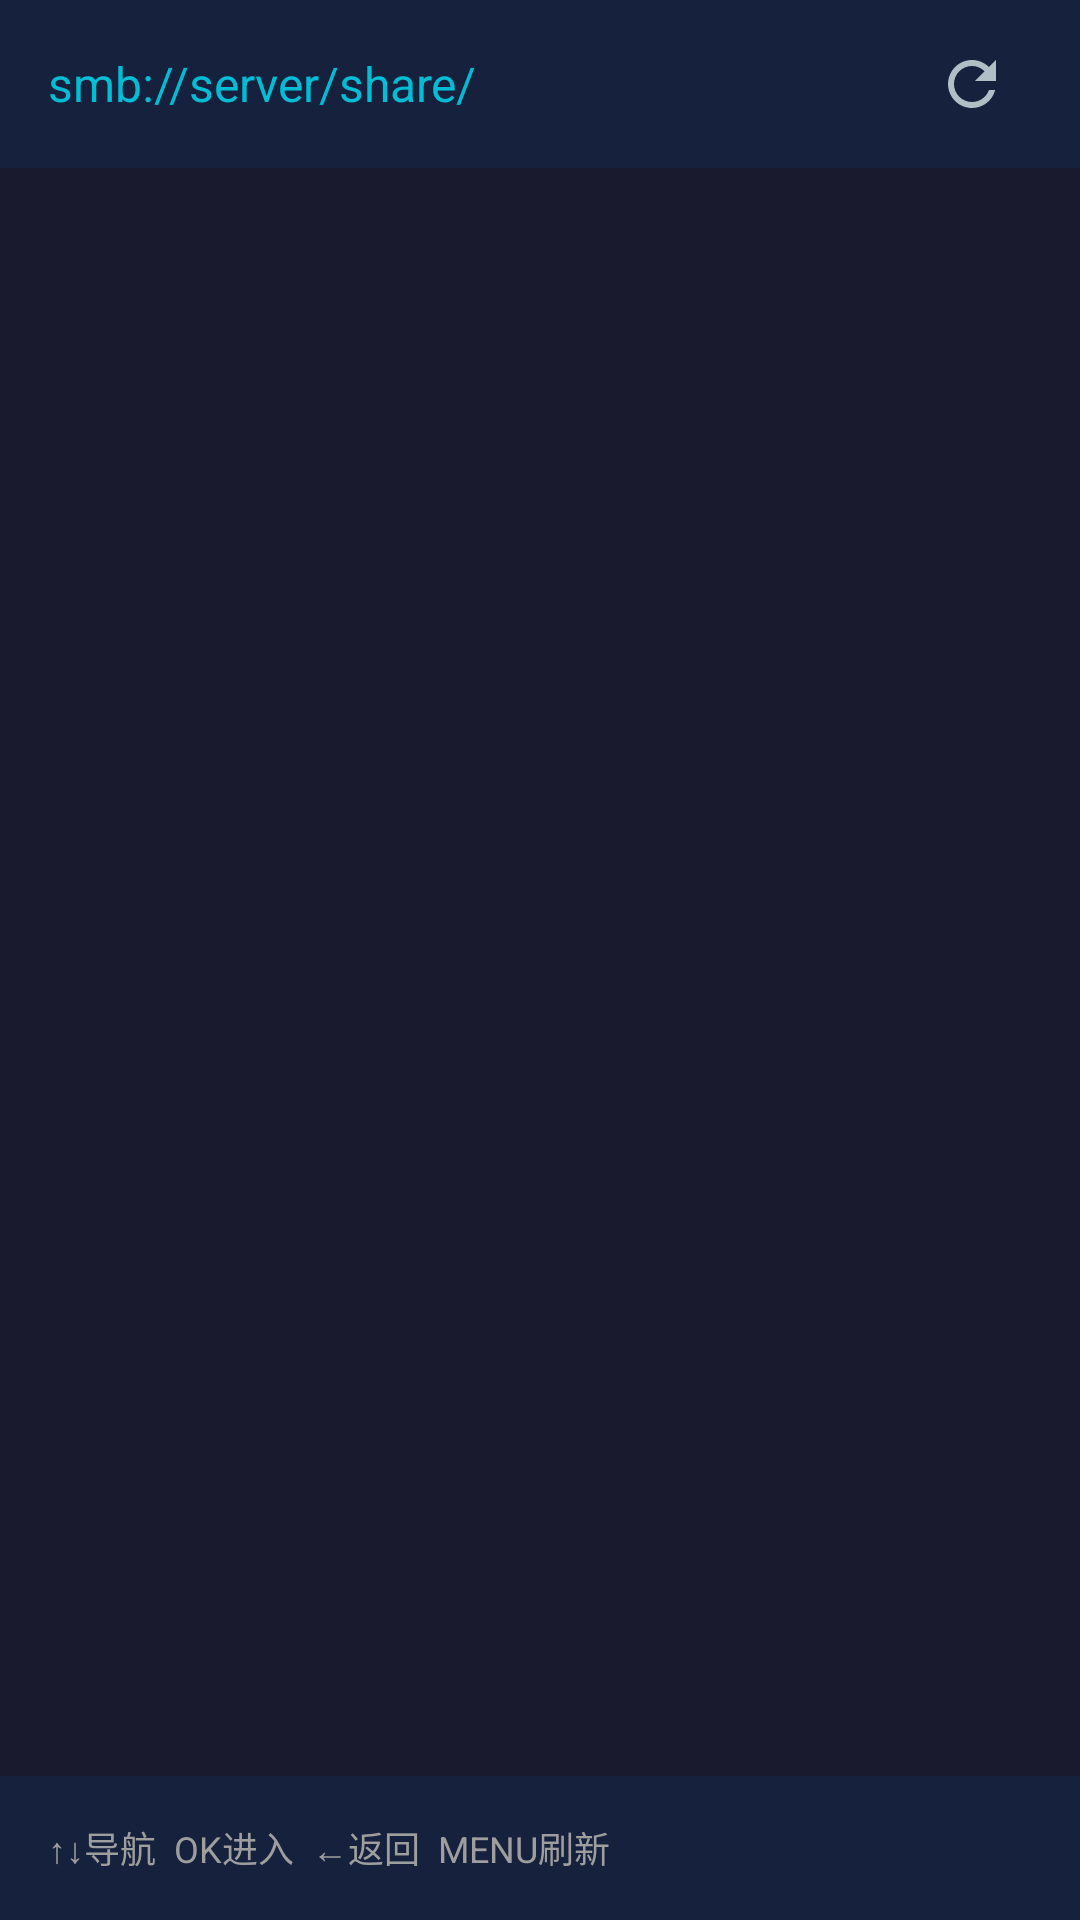

Icons on this 1080×1920 Android screen, each with the point to tap as (x,y):
刷新: (972,84)
